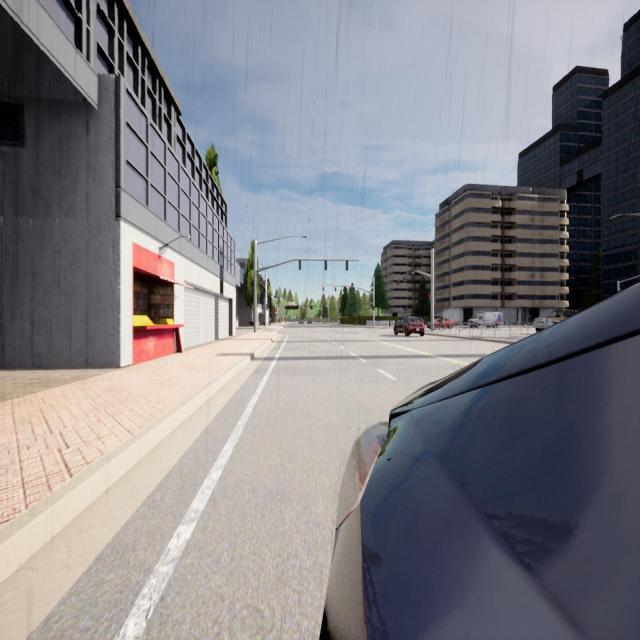Vehicle: (326, 285, 640, 638), (535, 310, 579, 332), (469, 312, 503, 328), (394, 318, 424, 336), (427, 319, 454, 328), (308, 319, 312, 324), (299, 320, 303, 324)
traffic_light: (324, 260, 327, 270), (346, 260, 348, 270), (299, 260, 301, 269), (397, 278, 399, 284), (372, 305, 374, 310), (349, 286, 351, 291), (429, 296, 431, 300), (403, 276, 405, 280), (323, 286, 324, 291), (335, 286, 336, 291)
